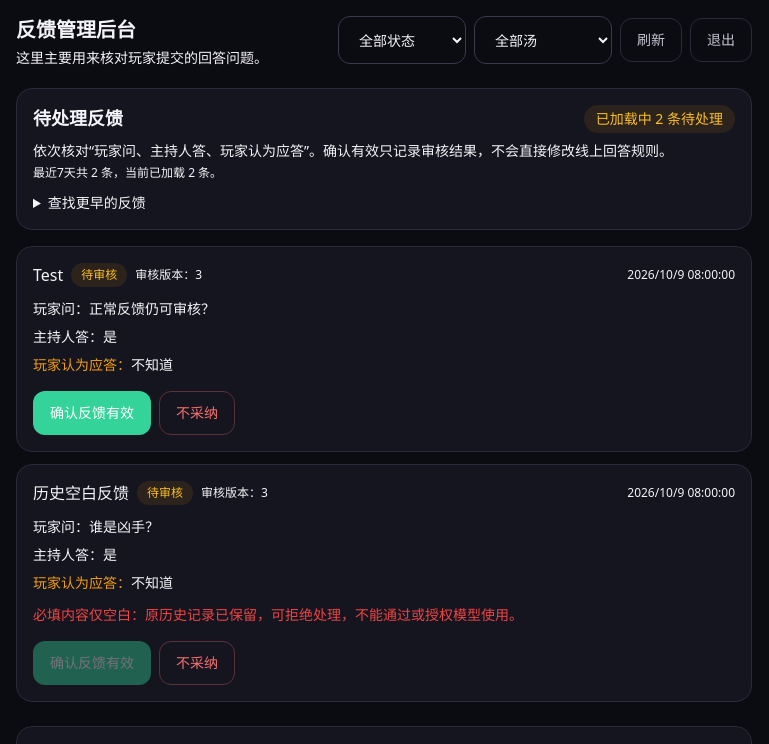
Test: historical blank soupId does not hide normal rows and only allows rejection
Expected: the text "正常反馈仍可审核？" is shown, 89,299 -> 215,318
Expected: the text "必填内容仅空白：原历史记录已保留，可拒绝处理，不能通过或授权模型使用。" is shown, 33,605 -> 523,624
Click the button "不采纳" below "必填内容仅空白：原历史记录已保留，可拒绝处理，不能通过或授权模型使用。" at (197, 663), box 159,641 -> 235,685
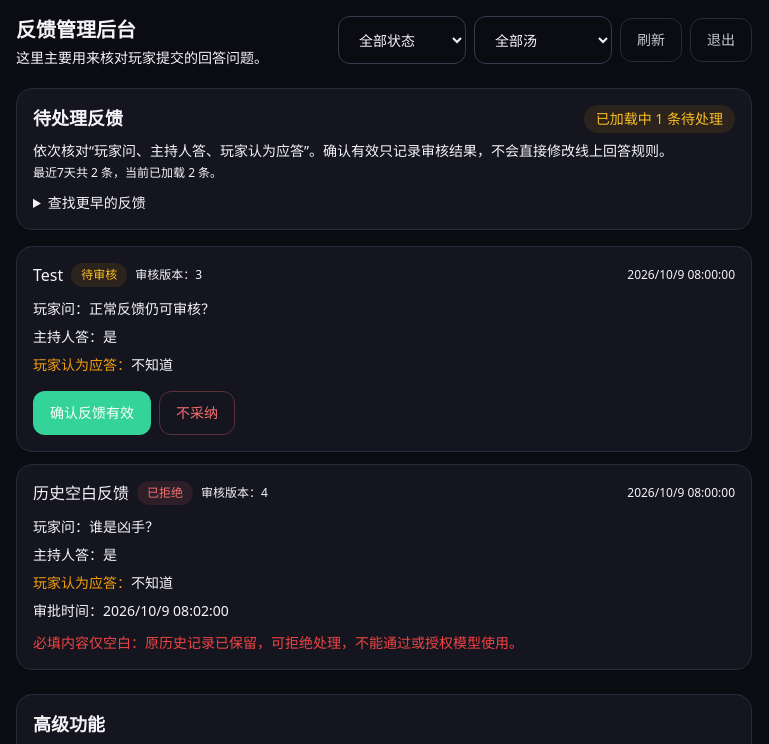
Expected: the text "正常反馈仍可审核？" is shown, 89,299 -> 215,318
Expected: the text "审核版本：4" is shown, 201,485 -> 268,501
